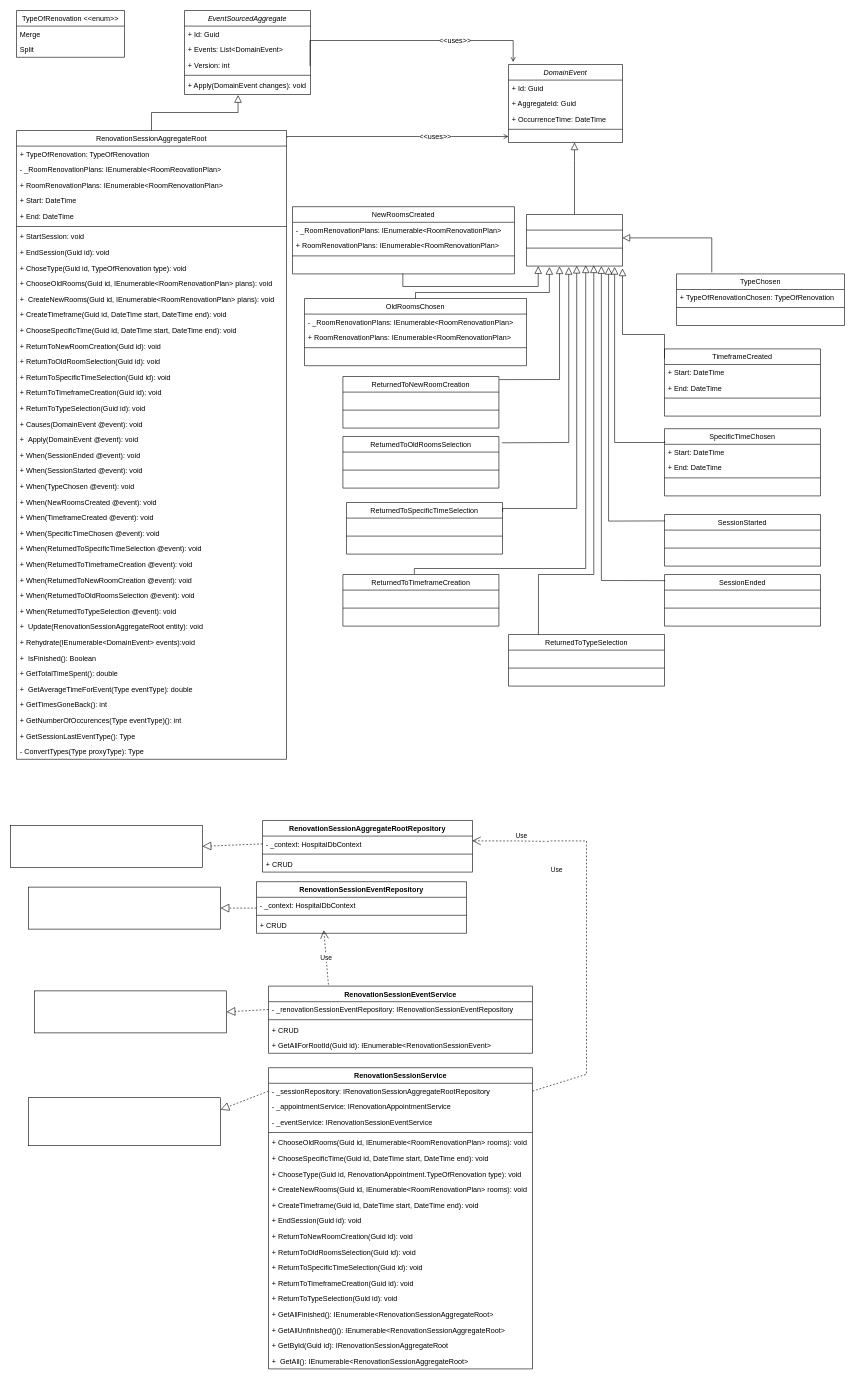
Image size: 855x1381. Some labels were removed from this diagram. The centre of each missing label's shape, as x and y in pixels:
RenovationSessionEvent: the point at 574,240
«interface» IRenovationSessionAggregateRootRepository: the point at 106,846
«interface» IRenovationSessionEventRepository: the point at 124,907
«interface» IRenovationSessionEventService: the point at 130,1011
«interface» IRenovationSessionService: the point at 124,1121
